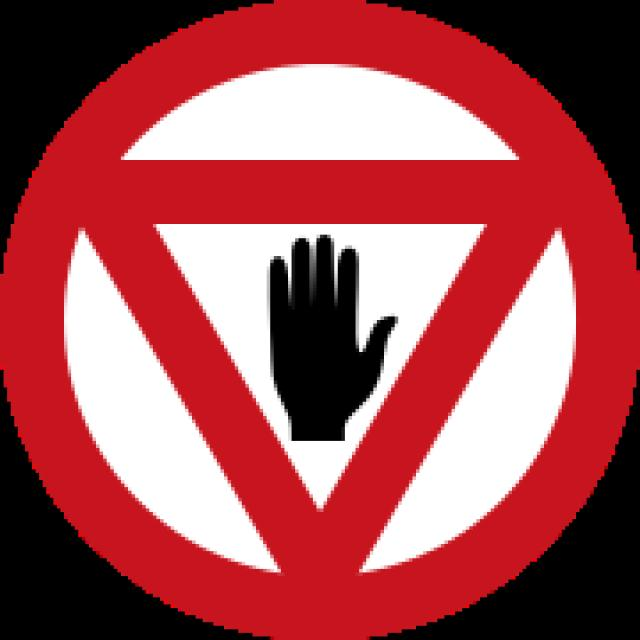Traffic sign: (22, 44, 608, 613)
